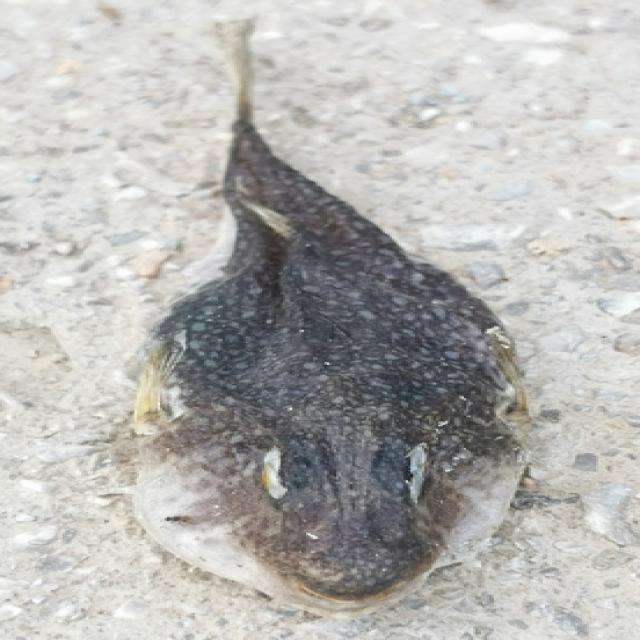Balik: (135, 22, 526, 616)
